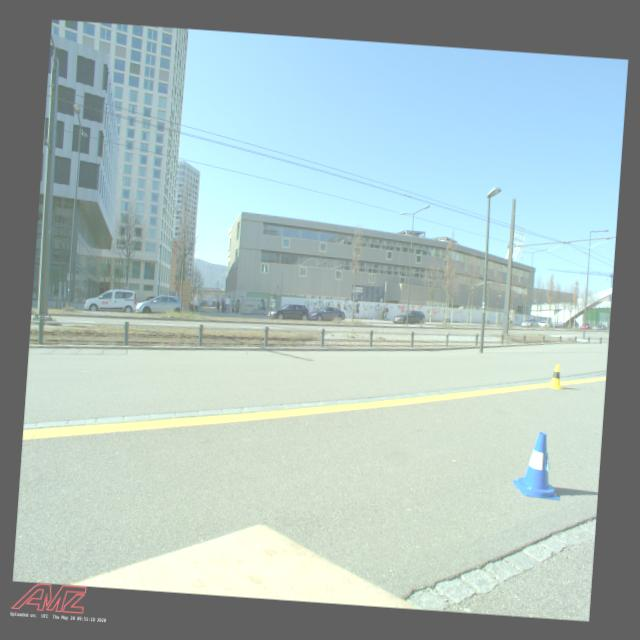blue_cone: (510, 430, 564, 500)
yellow_cone: (544, 363, 566, 389)
